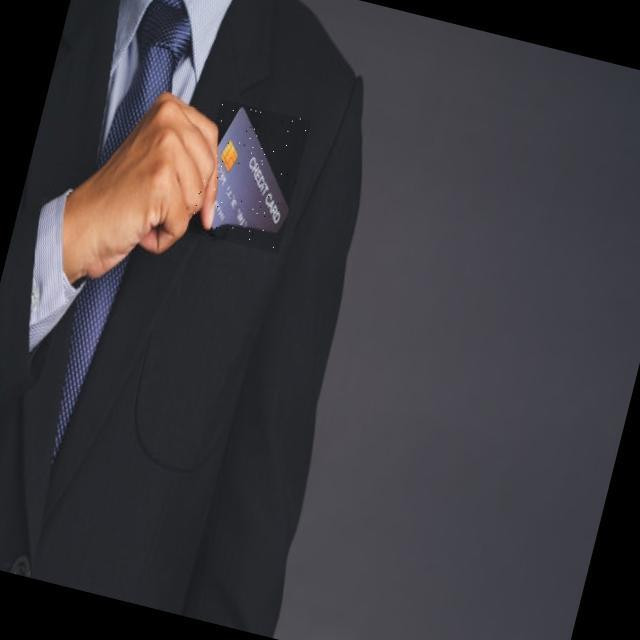payment_card: (209, 106, 289, 234)
